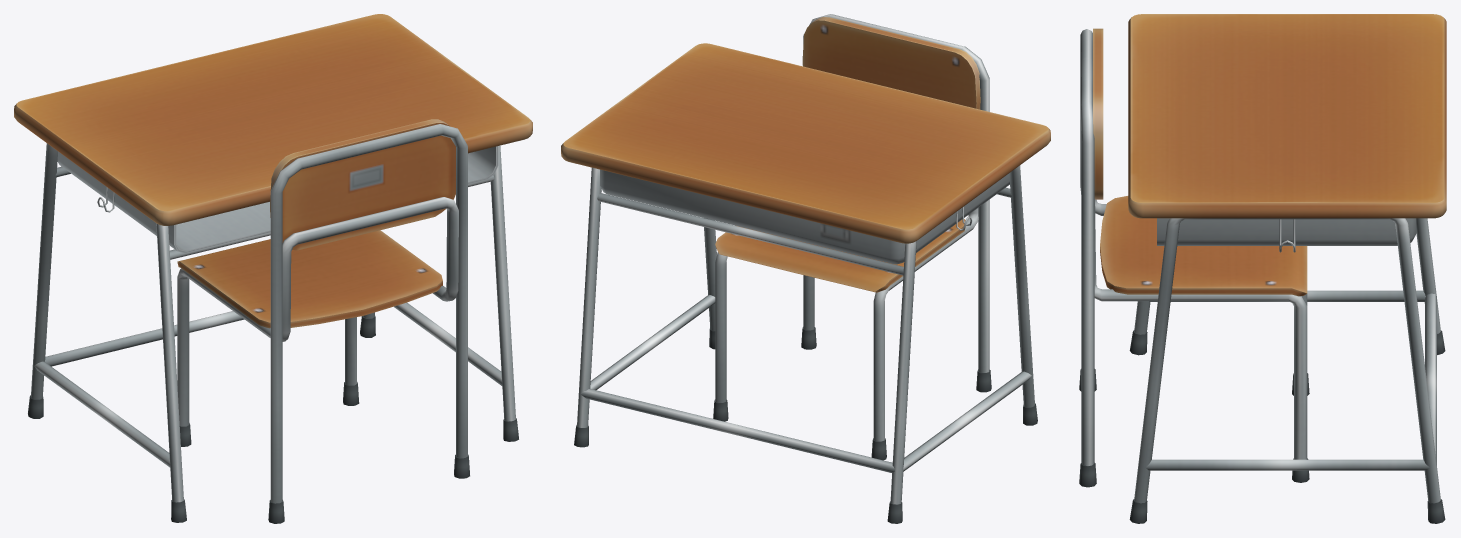
File: School_desk_chair_01_S.fbx
3 renders of one model, left to right at view 1: azimuth 30°, elevation 25°; view 2: azimuth 150°, elevation 25°; view 3: azimuth 270°, elevation 25°, orthographic. The views are drawn at different scales.
Visible parts, largest first — view 1: school_desk, school_chair; view 2: school_desk, school_chair; view 3: school_desk, school_chair.
Part boxes in pixels (<box>): school_desk: <box>14,14,532,522</box>; school_chair: <box>177,119,469,523</box>; school_desk: <box>561,43,1050,523</box>; school_chair: <box>713,14,991,460</box>; school_desk: <box>1128,14,1446,523</box>; school_chair: <box>1079,28,1309,487</box>.
Size of the model in its own units: 80 by 72.53 by 64.98.
